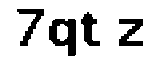7: (12, 4, 46, 52)
q: (48, 15, 79, 60)
t: (80, 13, 109, 50)
z: (114, 17, 147, 49)
